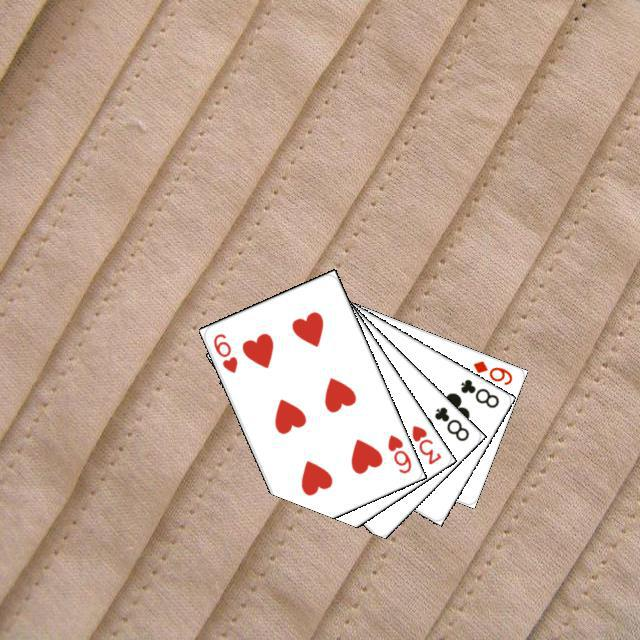3h: (407, 420, 443, 466)
6d: (468, 356, 514, 387)
6h: (208, 328, 239, 375), (382, 429, 413, 475)
8c: (429, 402, 471, 443), (455, 374, 501, 410)
